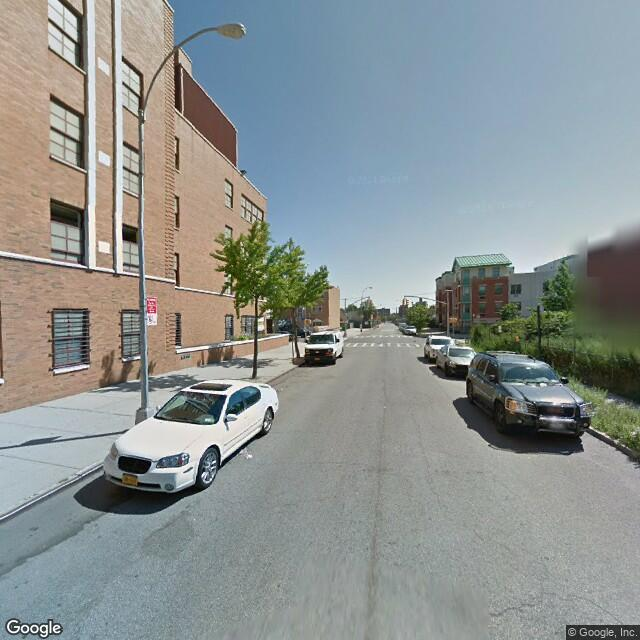litter: (235, 449, 261, 462)
